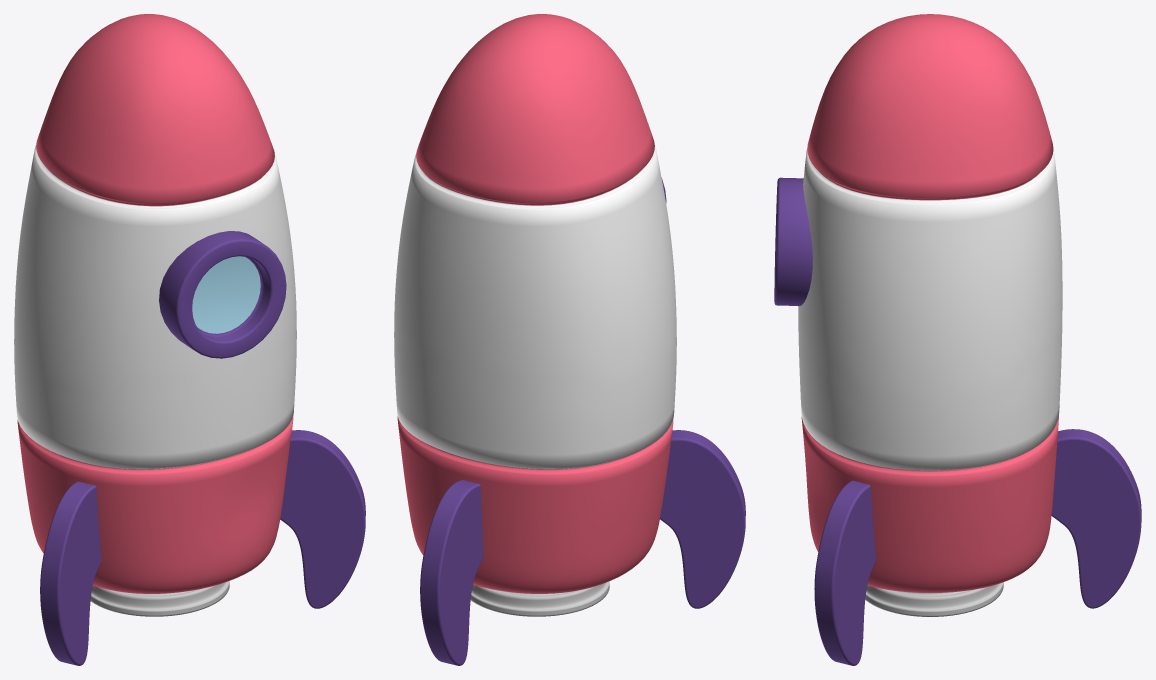
The picture shows the model from 3 angles, left to right: view 1: azimuth 30°, elevation 25°; view 2: azimuth 150°, elevation 25°; view 3: azimuth 270°, elevation 25°; orthographic projection.
Parts seen in each view (by area): view 1: Cube.001, Cylinder, BezierCircle.002, BezierCircle; view 2: Cube.001, BezierCircle, BezierCircle.001; view 3: Cube.001, BezierCircle.001, BezierCircle.002, Cylinder.
Boxes of the visible parts, bbox=[...] form: Cube.001: bbox=[14, 14, 296, 616]; Cylinder: bbox=[159, 231, 286, 358]; BezierCircle.002: bbox=[280, 430, 365, 608]; BezierCircle: bbox=[40, 481, 101, 665]; Cube.001: bbox=[394, 14, 676, 616]; BezierCircle: bbox=[660, 430, 745, 608]; BezierCircle.001: bbox=[420, 480, 483, 665]; Cube.001: bbox=[798, 14, 1062, 616]; BezierCircle.001: bbox=[1051, 429, 1141, 608]; BezierCircle.002: bbox=[814, 480, 876, 665]; Cylinder: bbox=[774, 177, 812, 305].
Size of the model in its own units: 136 by 234 by 133.
